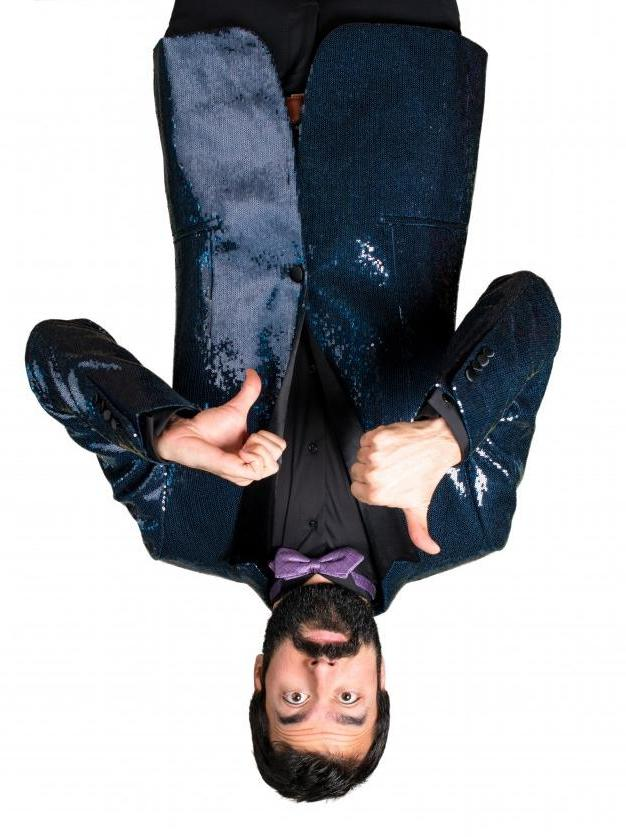thumbsdown: (350, 429, 441, 555)
